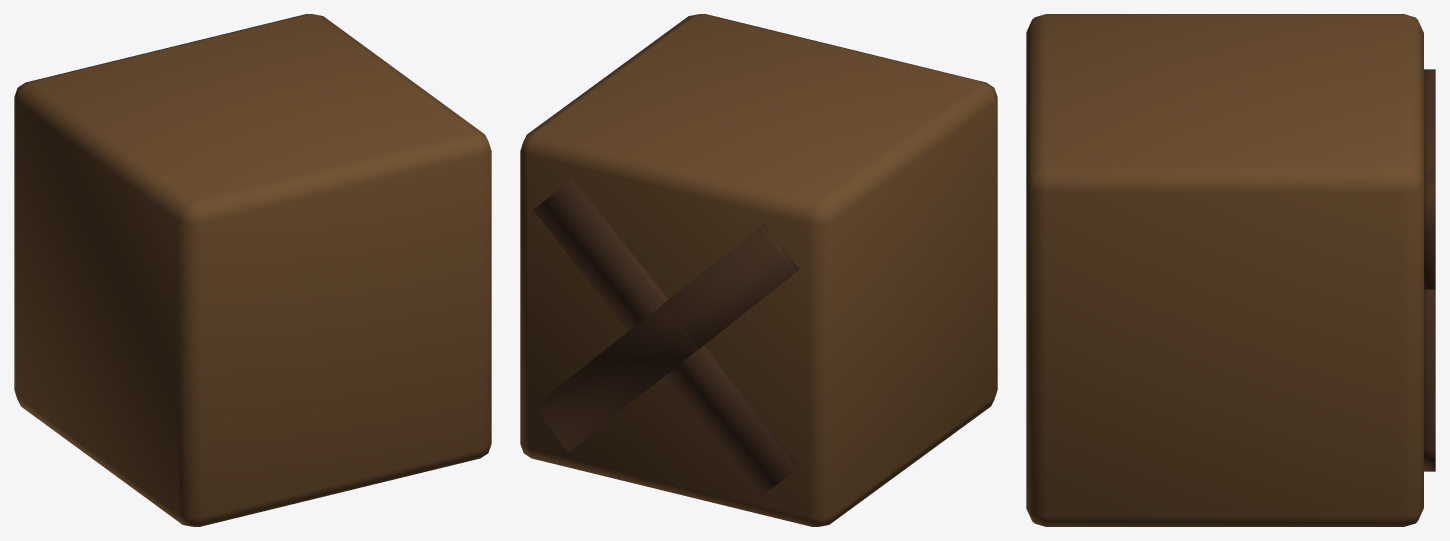
The model's file is crate.glb.
The picture shows the model from 3 angles, left to right: view 1: azimuth 30°, elevation 25°; view 2: azimuth 150°, elevation 25°; view 3: azimuth 270°, elevation 25°; orthographic projection. The views are drawn at different scales.
Parts seen in each view (by area): view 1: crate; view 2: crate; view 3: crate.
Part boxes in pixels (box(x1,y1,x2,y2)): crate: box(14, 14, 491, 526); crate: box(520, 14, 997, 526); crate: box(1026, 14, 1435, 526).
Size of the model in its own units: 1 by 1 by 1.03.
